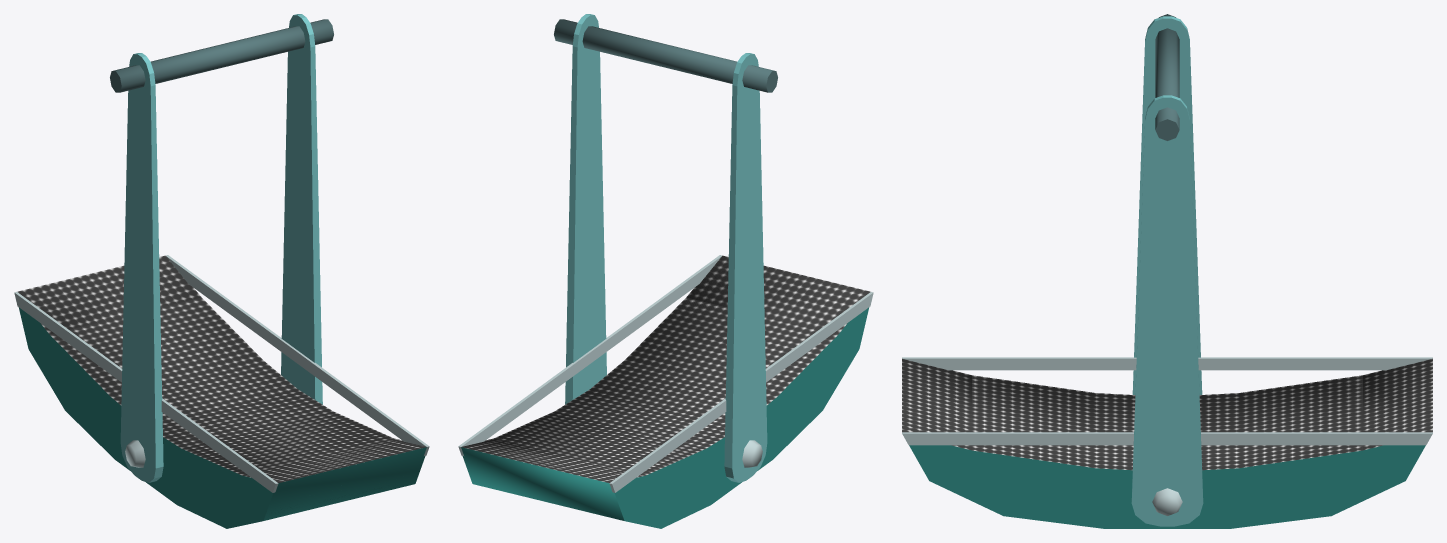
File: PendulumPlatform.fbx
3 renders of one model, left to right at view 1: azimuth 30°, elevation 25°; view 2: azimuth 150°, elevation 25°; view 3: azimuth 270°, elevation 25°, orthographic.
Parts seen in each view (by area): view 1: PendulumBody, PendulumBody.002, PendulumBody.003, PendulumBody.001, PendulumBody.006, PendulumBody.010, PendulumBody.008, PendulumBody.009, PendulumAxis, PendulumBody.005, PendulumBody.004, PendulumBody.007; view 2: PendulumBody, PendulumBody.002, PendulumBody.003, PendulumBody.001, PendulumBody.007, PendulumBody.009, PendulumBody.008, PendulumAxis, PendulumBody.006, PendulumBody.005, PendulumBody.004, PendulumBody.010; view 3: PendulumBody, PendulumBody.003, PendulumBody.001, PendulumBody.005, PendulumBody.004, PendulumBody.010, PendulumBody.002, PendulumBody.008, PendulumBody.009, PendulumAxis, PendulumBody.007, PendulumBody.006.
Boxes of the visible parts, left/top/right/bottom form: PendulumBody: left=50, top=15, right=426, bottom=528; PendulumBody.002: left=120, top=53, right=163, bottom=482; PendulumBody.003: left=281, top=14, right=322, bottom=404; PendulumBody.001: left=17, top=255, right=201, bottom=409; PendulumBody.006: left=230, top=438, right=426, bottom=525; PendulumBody.010: left=49, top=297, right=226, bottom=459; PendulumBody.008: left=146, top=389, right=332, bottom=504; PendulumBody.009: left=110, top=359, right=297, bottom=470; PendulumAxis: left=110, top=19, right=333, bottom=92; PendulumBody.005: left=166, top=255, right=429, bottom=455; PendulumBody.004: left=14, top=292, right=278, bottom=492; PendulumBody.007: left=177, top=437, right=393, bottom=516; PendulumBody: left=494, top=15, right=870, bottom=528; PendulumBody.002: left=724, top=53, right=767, bottom=482; PendulumBody.003: left=565, top=14, right=606, bottom=404; PendulumBody.001: left=461, top=438, right=660, bottom=528; PendulumBody.007: left=662, top=297, right=838, bottom=459; PendulumBody.009: left=555, top=389, right=741, bottom=504; PendulumBody.008: left=590, top=359, right=777, bottom=470; PendulumAxis: left=554, top=19, right=777, bottom=92; PendulumBody.006: left=686, top=258, right=869, bottom=409; PendulumBody.005: left=458, top=255, right=721, bottom=455; PendulumBody.004: left=609, top=292, right=873, bottom=492; PendulumBody.010: left=494, top=437, right=710, bottom=523; PendulumBody: left=902, top=19, right=1362, bottom=528; PendulumBody.003: left=1131, top=95, right=1203, bottom=526; PendulumBody.001: left=1332, top=358, right=1432, bottom=515; PendulumBody.005: left=902, top=432, right=1432, bottom=445; PendulumBody.004: left=902, top=357, right=1432, bottom=370; PendulumBody.010: left=1230, top=375, right=1362, bottom=528; PendulumBody.002: left=1132, top=16, right=1202, bottom=394; PendulumBody.008: left=1096, top=393, right=1135, bottom=473; PendulumBody.009: left=1199, top=393, right=1238, bottom=472; PendulumAxis: left=1155, top=14, right=1179, bottom=140; PendulumBody.007: left=972, top=375, right=1104, bottom=528; PendulumBody.006: left=909, top=371, right=972, bottom=479.
Size of the model in its own units: 27.94 by 59.59 by 53.8.
